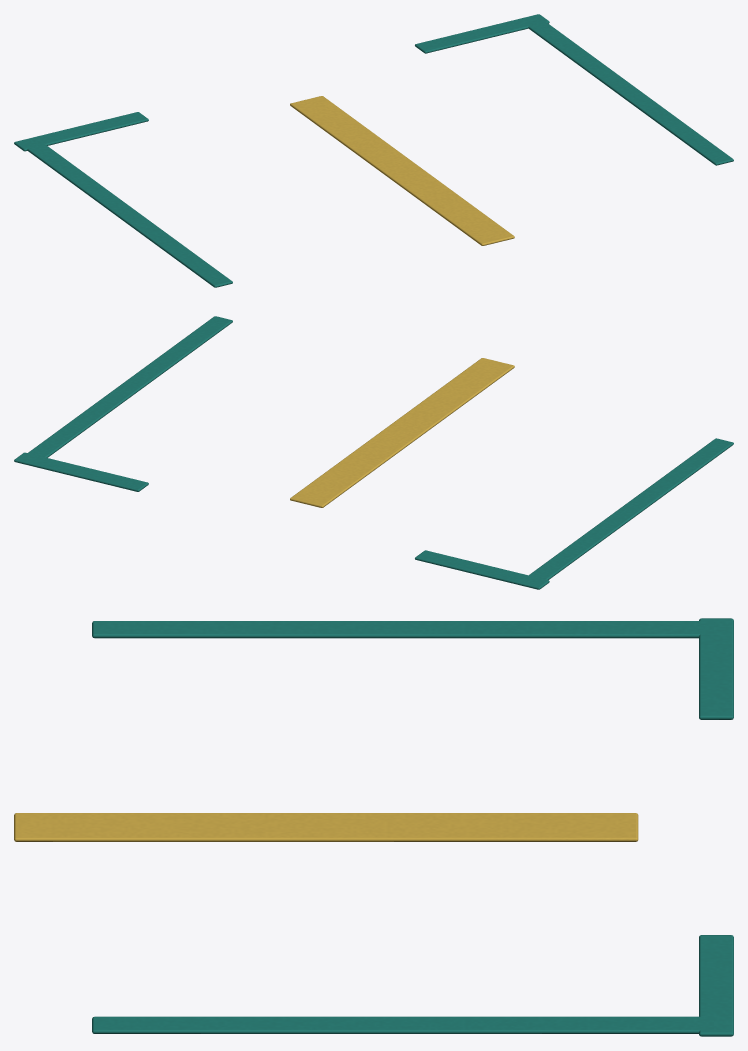
The model's file is detail-queue-mark-0.glb.
3 renders of one model, top to bottom at view 1: azimuth 30°, elevation 25°; view 2: azimuth 150°, elevation 25°; view 3: azimuth 270°, elevation 25°, orthographic. The views are drawn at different scales.
Parts seen in each view (by area): view 1: queue_line (×2), alighting_arrow, queue_head (×2); view 2: queue_line (×2), alighting_arrow, queue_head (×2); view 3: queue_line (×2), alighting_arrow, queue_head (×2).
Part boxes in pixels (x1,y1,x2,y2): queue_line (×2): (24,19,733,287); alighting_arrow: (290,96,514,245); queue_head (×2): (14,14,549,151); queue_line (×2): (24,316,733,582); alighting_arrow: (290,358,514,507); queue_head (×2): (14,452,549,589); queue_line (×2): (92,621,713,1033); alighting_arrow: (14,813,638,841); queue_head (×2): (699,618,733,1036).
Size of the model in its own units: 1.26 by 0.006 by 0.9225.
Materials: 2 (2 with a texture image).
